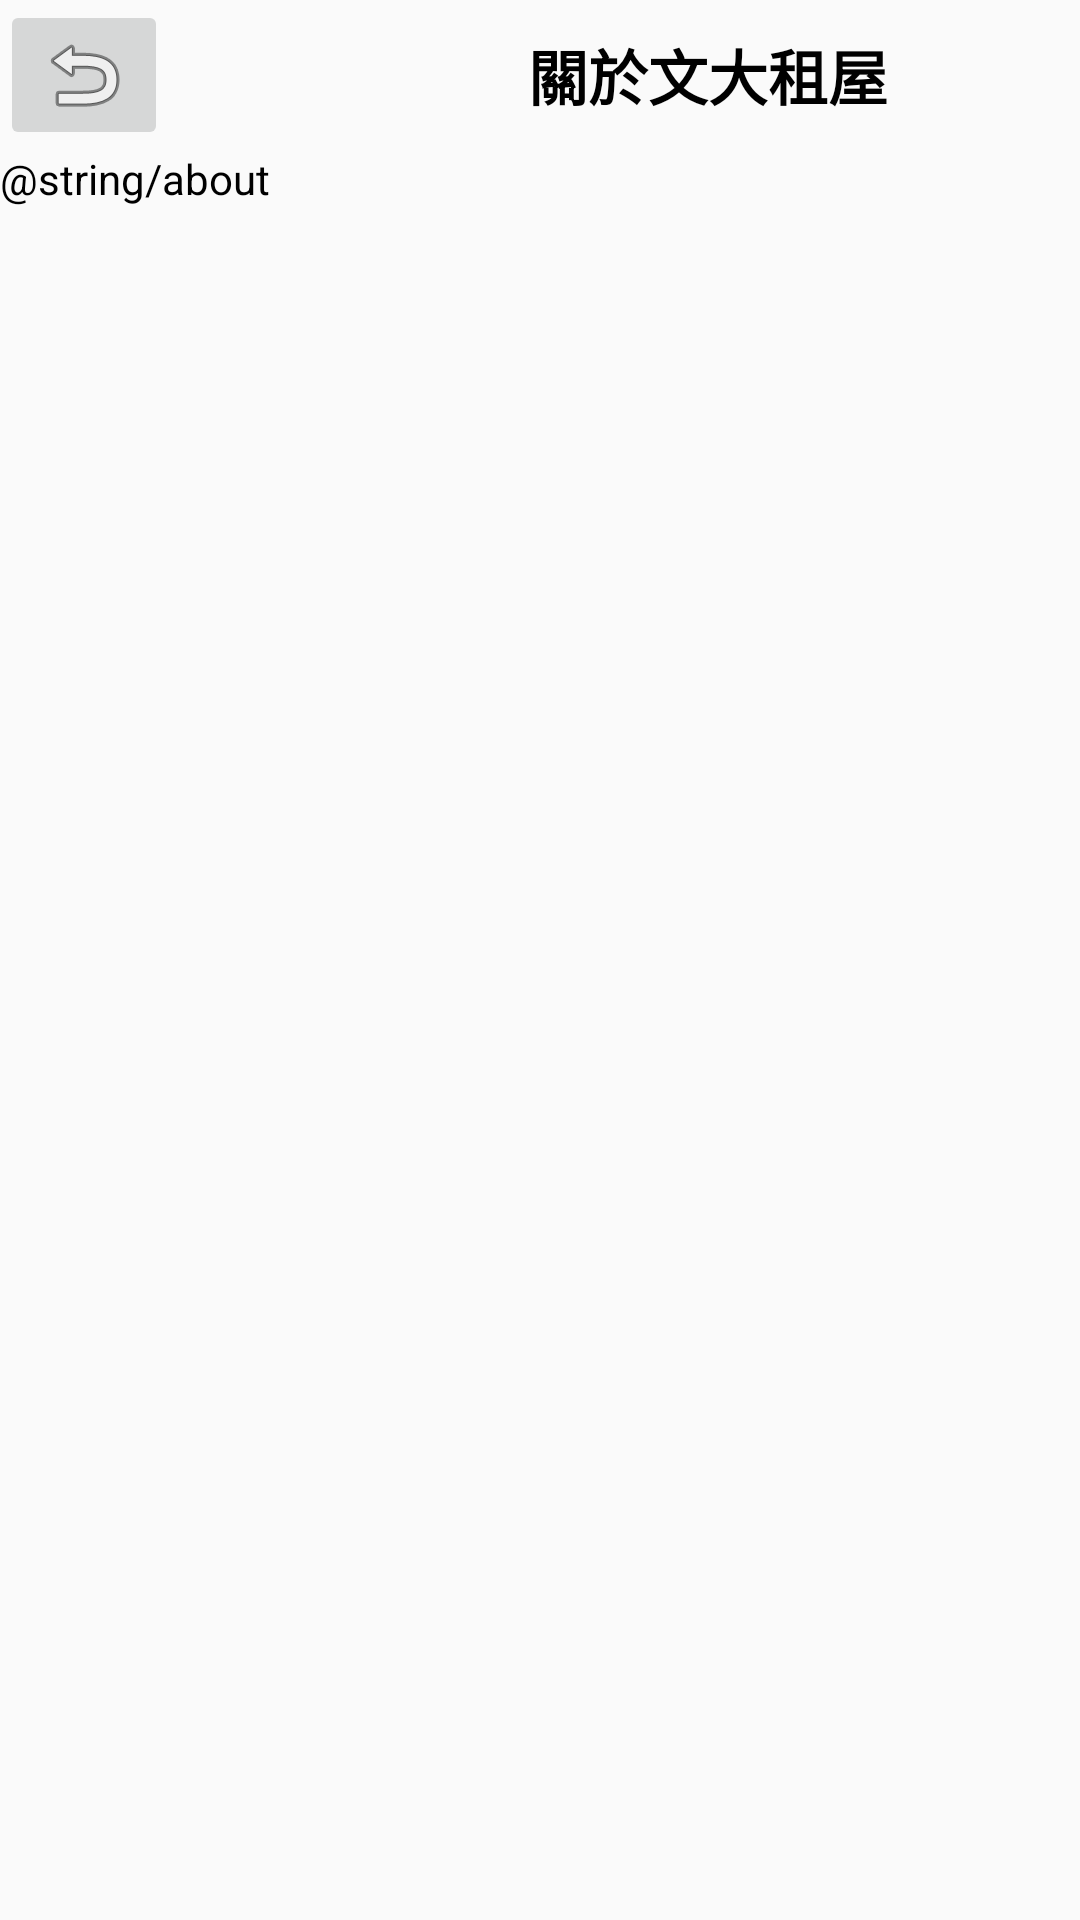

Screen size 1080 x 1920. Icon name, then its center in pixels as [x,y]:
revert: [84,75]
